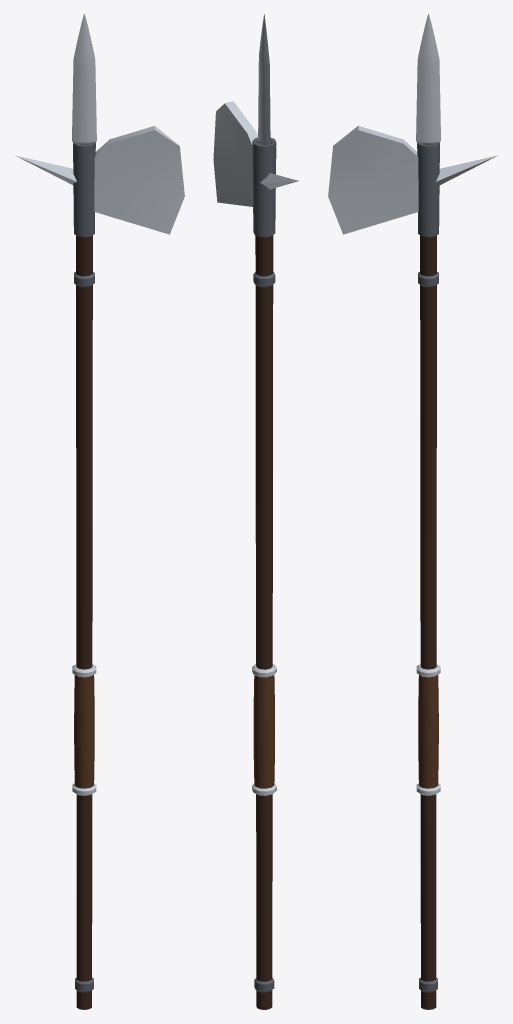
The model's file is halberd.glb.
3 renders of one model, left to right at view 1: azimuth 90°, elevation 25°; view 2: azimuth 210°, elevation 25°; view 3: azimuth 270°, elevation 25°, orthographic.
Visible parts, largest first — view 1: halberd; view 2: halberd; view 3: halberd.
Part boxes in pixels (<box>): halberd: <box>15,14,184,1009</box>; halberd: <box>213,14,298,1009</box>; halberd: <box>328,14,497,1009</box>.
Size of the model in its own units: 0.05 by 2.18 by 0.34.
